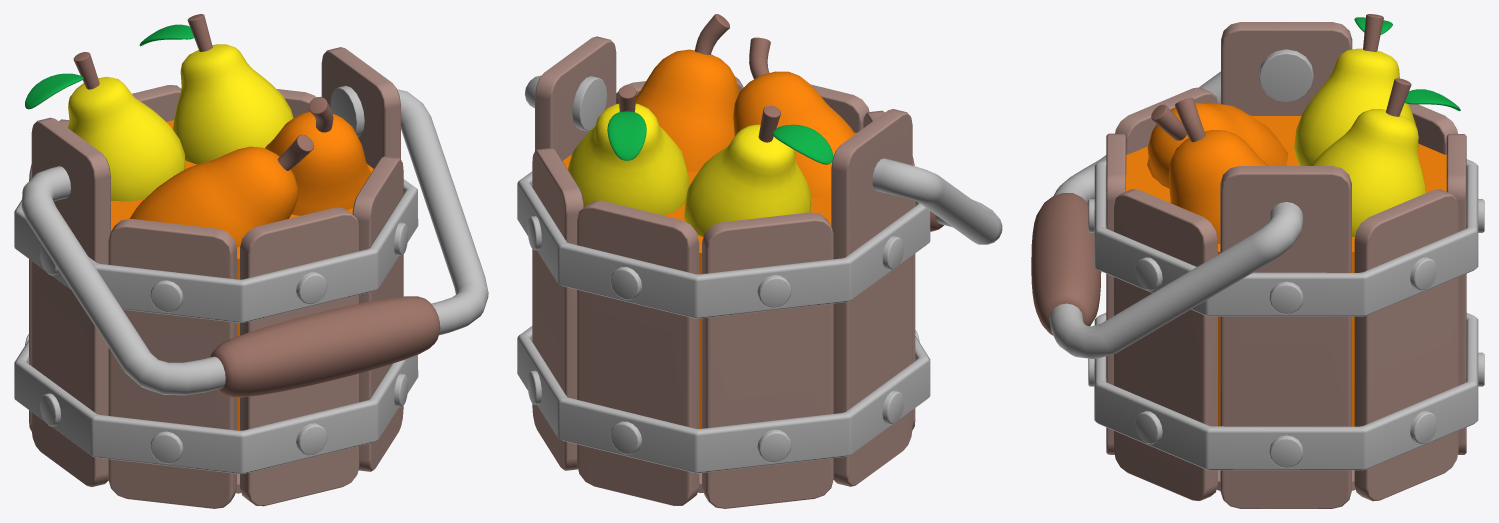
The model's file is Farm_13_Bucket_with_Pear_2.glb.
3 renders of one model, left to right at view 1: azimuth 30°, elevation 25°; view 2: azimuth 150°, elevation 25°; view 3: azimuth 270°, elevation 25°, orthographic. The views are drawn at different scales.
Visible parts, largest first — view 1: Farm_13_Bucket_with_Pear_2; view 2: Farm_13_Bucket_with_Pear_2; view 3: Farm_13_Bucket_with_Pear_2.
Part boxes in pixels (bbox=[...]): Farm_13_Bucket_with_Pear_2: bbox=[14, 14, 488, 508]; Farm_13_Bucket_with_Pear_2: bbox=[517, 14, 1002, 508]; Farm_13_Bucket_with_Pear_2: bbox=[1031, 14, 1484, 508].
Size of the model in its own units: 0.675 by 0.5906 by 0.6463.
1 material, 1 textured.
